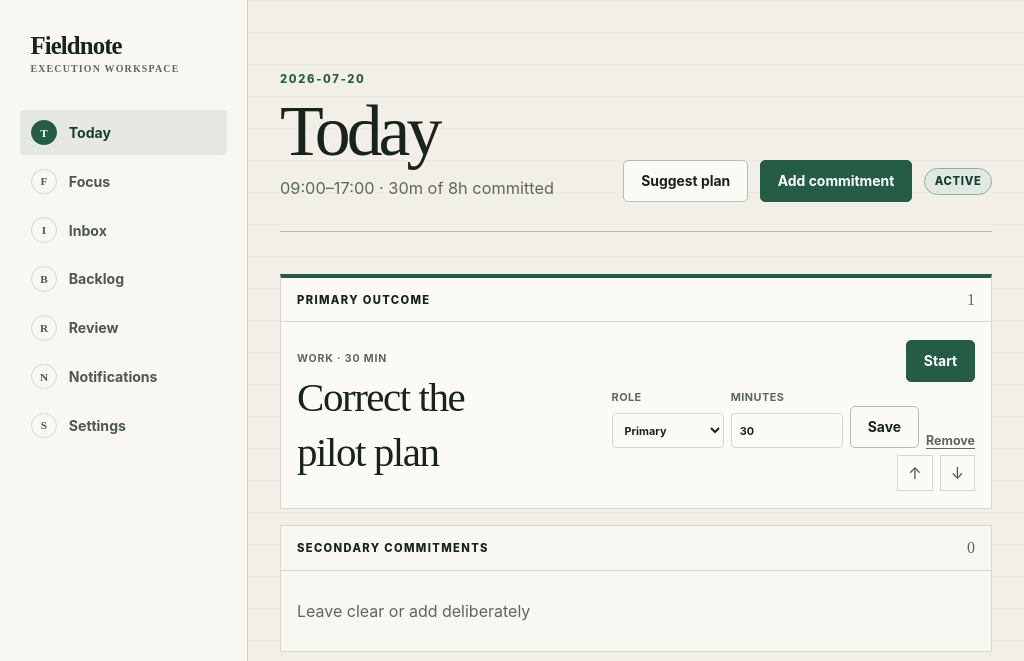
Test: authenticated application routing › lets a user correct and remove a commitment with plan-version guards
Select "Secondary" in the dropdown labelled "Role". click: (668, 431)
box: 612,413 -> 724,448
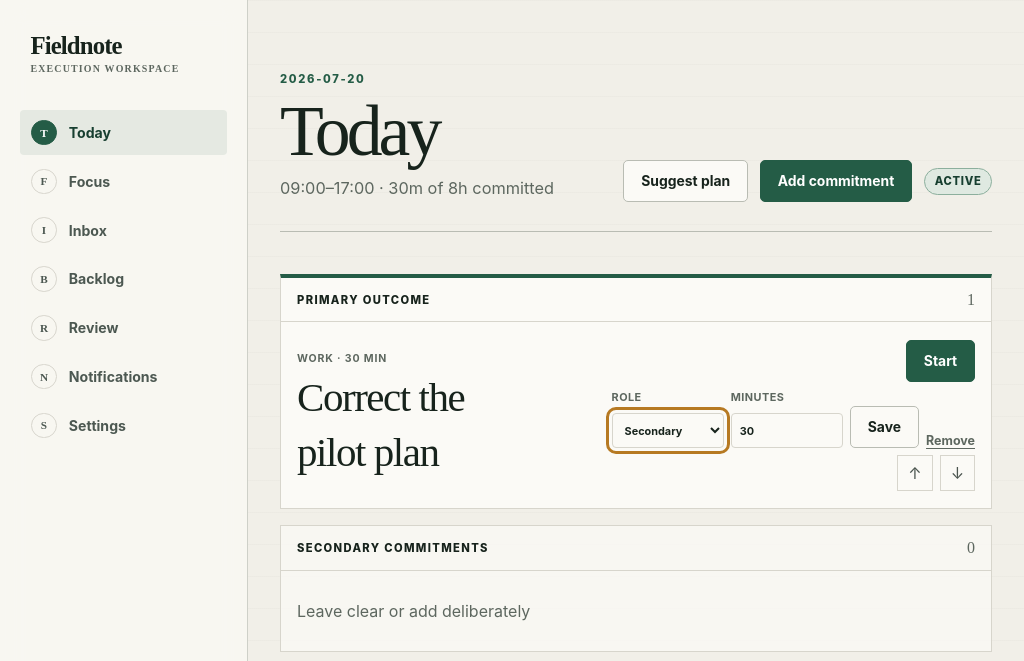
Replace the text in the number field labelled "Minutes" with "45". click: (787, 431)
box: 731,413 -> 843,448
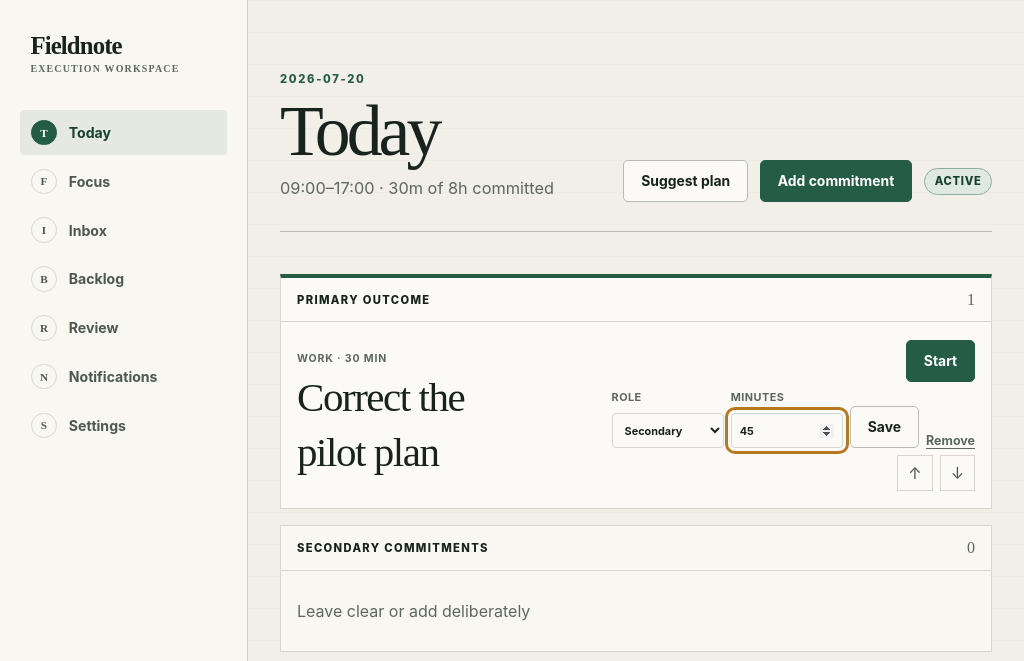
Click the button "Save". click: (884, 427)
box: 850,406 -> 919,448
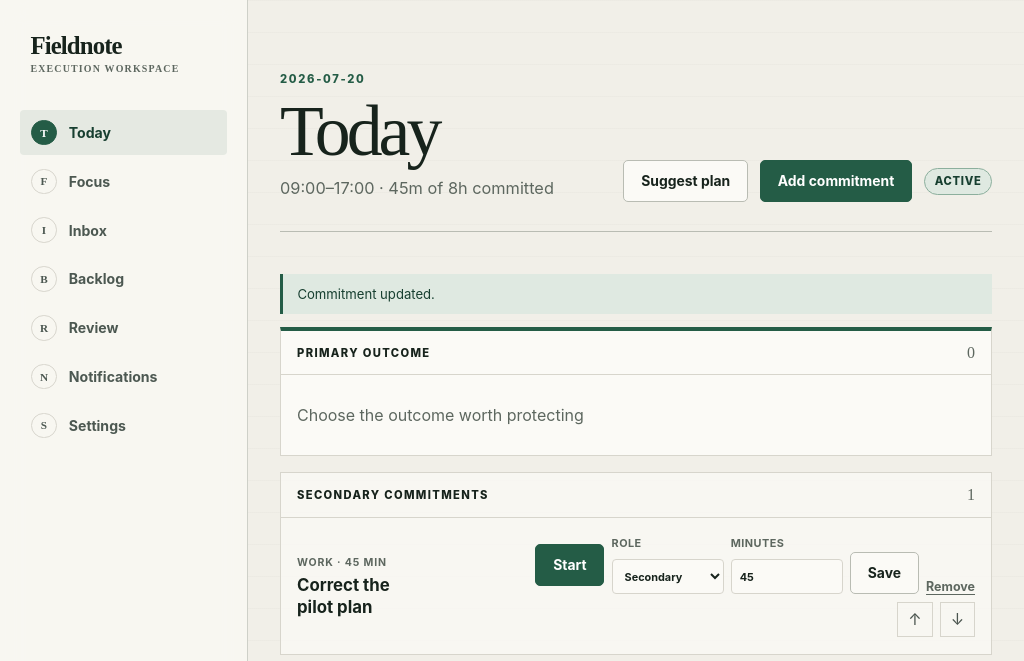
Result: the text "Commitment updated." is shown at 280,274 -> 992,314
Click the button "Remove". click: (950, 587)
box: 926,579 -> 975,594
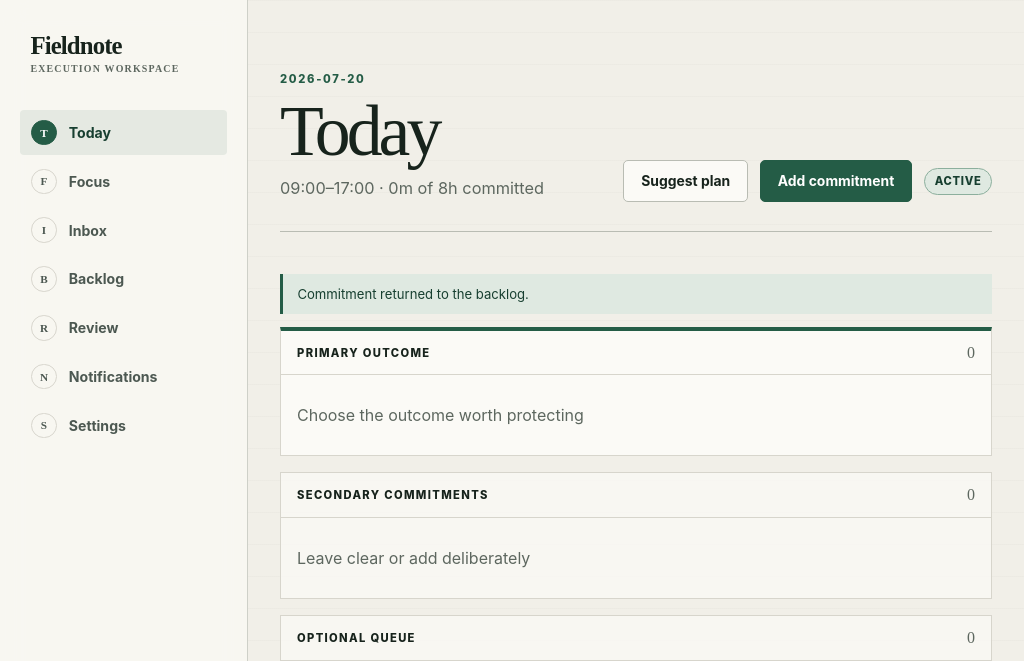
Result: the text "Commitment returned to the backlog." is shown at 280,274 -> 992,314
Result: the heading "Correct the pilot plan" is gone
